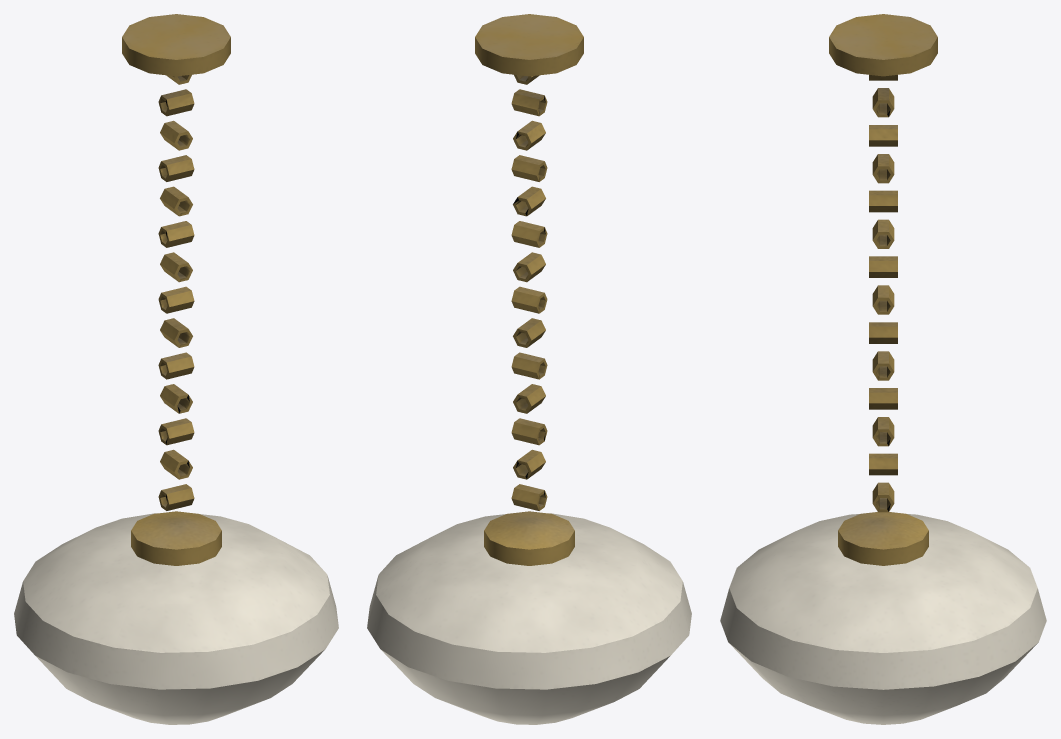
The model's file is H_PendantLamp.fbx.
The picture shows the model from 3 angles, left to right: view 1: azimuth 30°, elevation 25°; view 2: azimuth 150°, elevation 25°; view 3: azimuth 270°, elevation 25°; orthographic projection.
Parts seen in each view (by area): view 1: H_PendantLamp__H_PendantLamp_Bulb, H_PendantLamp__H_PendantLamp; view 2: H_PendantLamp__H_PendantLamp_Bulb, H_PendantLamp__H_PendantLamp; view 3: H_PendantLamp__H_PendantLamp_Bulb, H_PendantLamp__H_PendantLamp.
Boxes of the visible parts, left/top/right/bottom form: H_PendantLamp__H_PendantLamp_Bulb: left=14, top=513, right=338, bottom=724; H_PendantLamp__H_PendantLamp: left=122, top=14, right=230, bottom=565; H_PendantLamp__H_PendantLamp_Bulb: left=367, top=513, right=691, bottom=724; H_PendantLamp__H_PendantLamp: left=475, top=14, right=583, bottom=565; H_PendantLamp__H_PendantLamp_Bulb: left=720, top=514, right=1046, bottom=724; H_PendantLamp__H_PendantLamp: left=829, top=14, right=937, bottom=565.
Bounding box in the file's own units: 180 × 405 × 180.
1 material, 1 textured.
